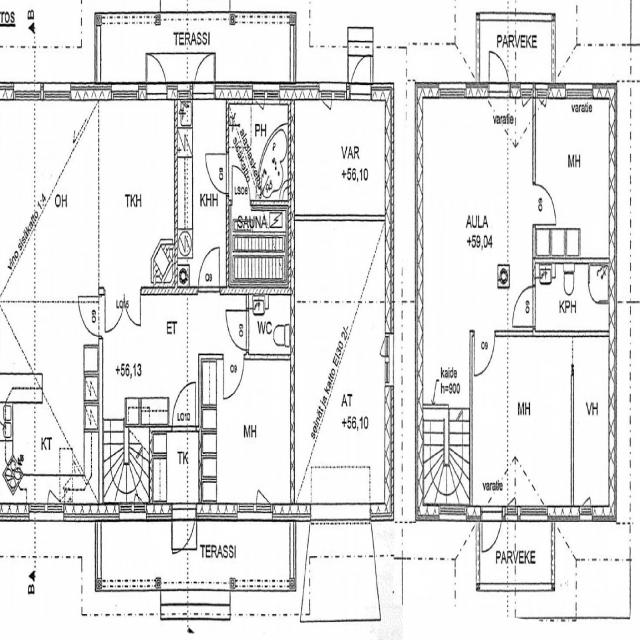door: (173, 504, 195, 564), (172, 381, 196, 431), (194, 44, 214, 100), (350, 44, 370, 100), (490, 44, 510, 98), (482, 505, 502, 559), (147, 44, 166, 100), (198, 246, 220, 294), (78, 296, 103, 336), (532, 185, 556, 225), (223, 354, 244, 398), (474, 331, 494, 376), (206, 154, 229, 193), (226, 310, 248, 350), (513, 287, 535, 327), (105, 286, 124, 332), (232, 166, 250, 210), (124, 286, 140, 326)
